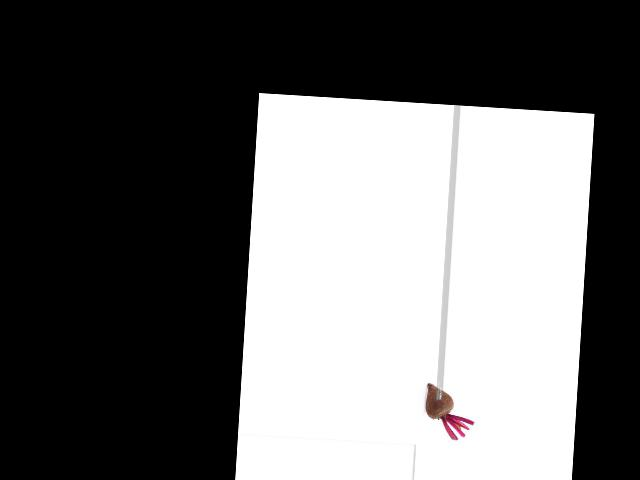beet: (423, 382, 476, 441)
